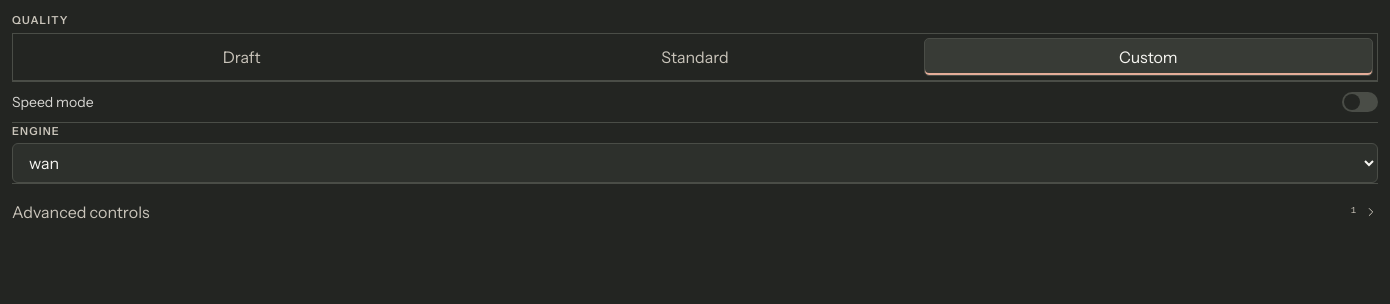
DynamicControls › hides show_if controls until the condition matches
Check: the text "Steps" is not shown
Advanced section now has a visible member — expand it
Click the text "Advanced controls". click: point(81, 212)
box: [12,200,150,224]
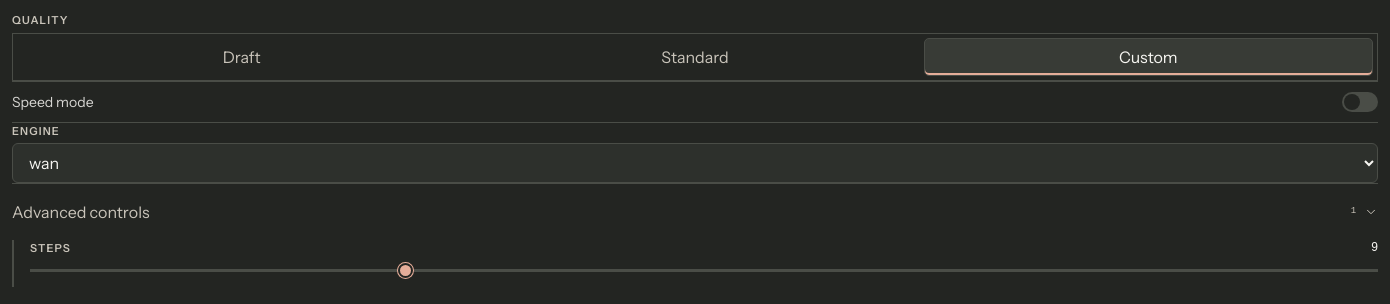
Check: the text "Steps" is shown, box [30,240,71,256]
